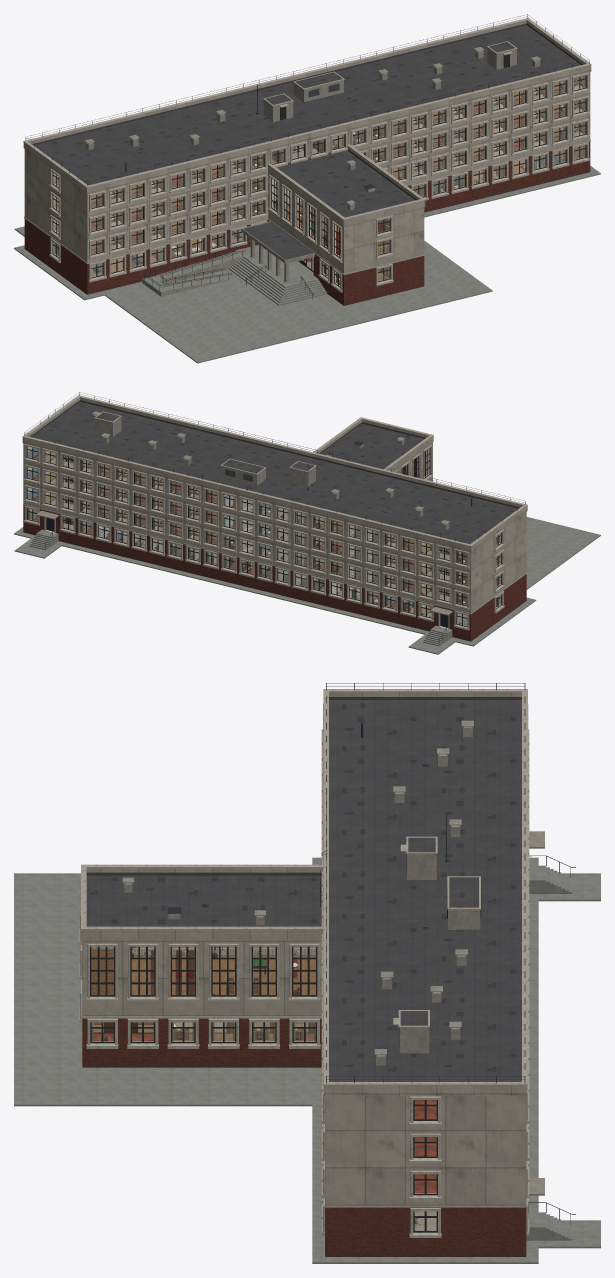
File: sanatorium.glb
3 views of the same model, one above another, from view 1: azimuth 30°, elevation 25°; view 2: azimuth 150°, elevation 25°; view 3: azimuth 270°, elevation 25° (orthographic). The views are drawn at different scales.
Parts seen in each view (by area): view 1: Roof_Surfaces, MainWing_Walls, Site_Paving, MainWing_Window_Surrounds, Facade_Trim, EntranceBlock_Walls, MainWing_Window_Frames, Roof_Structures, Entrance_Landing_Stairs, EntranceBlock_Window_Surrounds, Ramp_Structure, Roof_Railing (+6 smaller); view 2: Roof_Surfaces, MainWing_Walls, MainWing_Window_Surrounds, Facade_Trim, MainWing_Window_Frames, Site_Paving, Roof_Structures, Roof_Railing, RearExit_Porches, MainWing_Window_Glass, Shell_L0_STAIR2, Stair3_Flights (+2 smaller); view 3: Roof_Surfaces, Site_Paving, MainWing_Walls, Facade_Trim, EntranceBlock_Walls, Roof_Structures, EntranceBlock_Window_Surrounds, EntranceBlock_Window_Frames, MainWing_Window_Surrounds, Shell_L1_EB_HALL, RearExit_Porches, Roof_Railing (+3 smaller).
Boxes of the visible parts, box(x1,y1,x2,y2) form: Roof_Surfaces: box(34, 25, 581, 217); MainWing_Walls: box(24, 72, 590, 294); Site_Paving: box(14, 166, 600, 363); MainWing_Window_Surrounds: box(49, 72, 589, 282); Facade_Trim: box(23, 18, 591, 275); EntranceBlock_Walls: box(268, 172, 424, 305); MainWing_Window_Frames: box(52, 75, 586, 278); Roof_Structures: box(84, 41, 541, 210); Entrance_Landing_Stairs: box(228, 244, 327, 305); EntranceBlock_Window_Surrounds: box(268, 175, 424, 292); Ramp_Structure: box(142, 251, 243, 296); Roof_Railing: box(25, 14, 589, 186); Roof_Surfaces: box(31, 401, 518, 544); MainWing_Walls: box(23, 443, 526, 641); MainWing_Window_Surrounds: box(24, 444, 504, 630); Facade_Trim: box(22, 395, 527, 628); MainWing_Window_Frames: box(26, 446, 501, 626); Site_Paving: box(14, 517, 600, 654); Roof_Structures: box(92, 411, 472, 529); Roof_Railing: box(24, 392, 525, 543); RearExit_Porches: box(29, 510, 452, 646); MainWing_Window_Glass: box(28, 473, 466, 604); Shell_L0_STAIR2: box(421, 542, 449, 616); Stair3_Flights: box(49, 456, 73, 525); Roof_Surfaces: box(86, 700, 521, 1081); Site_Paving: box(14, 857, 600, 1263); MainWing_Walls: box(325, 1095, 526, 1256); Facade_Trim: box(81, 689, 527, 1207); EntranceBlock_Walls: box(82, 941, 321, 1067); Roof_Structures: box(122, 720, 481, 1065); EntranceBlock_Window_Surrounds: box(79, 903, 320, 1048); EntranceBlock_Window_Frames: box(90, 946, 317, 1043); MainWing_Window_Surrounds: box(321, 704, 529, 1237); Shell_L1_EB_HALL: box(91, 946, 315, 994); RearExit_Porches: box(526, 831, 572, 1240); Roof_Railing: box(326, 683, 525, 1083).
Bounding box in the file's own units: 77 × 19 × 47.2.
Materials: 34 (30 with a texture image).
